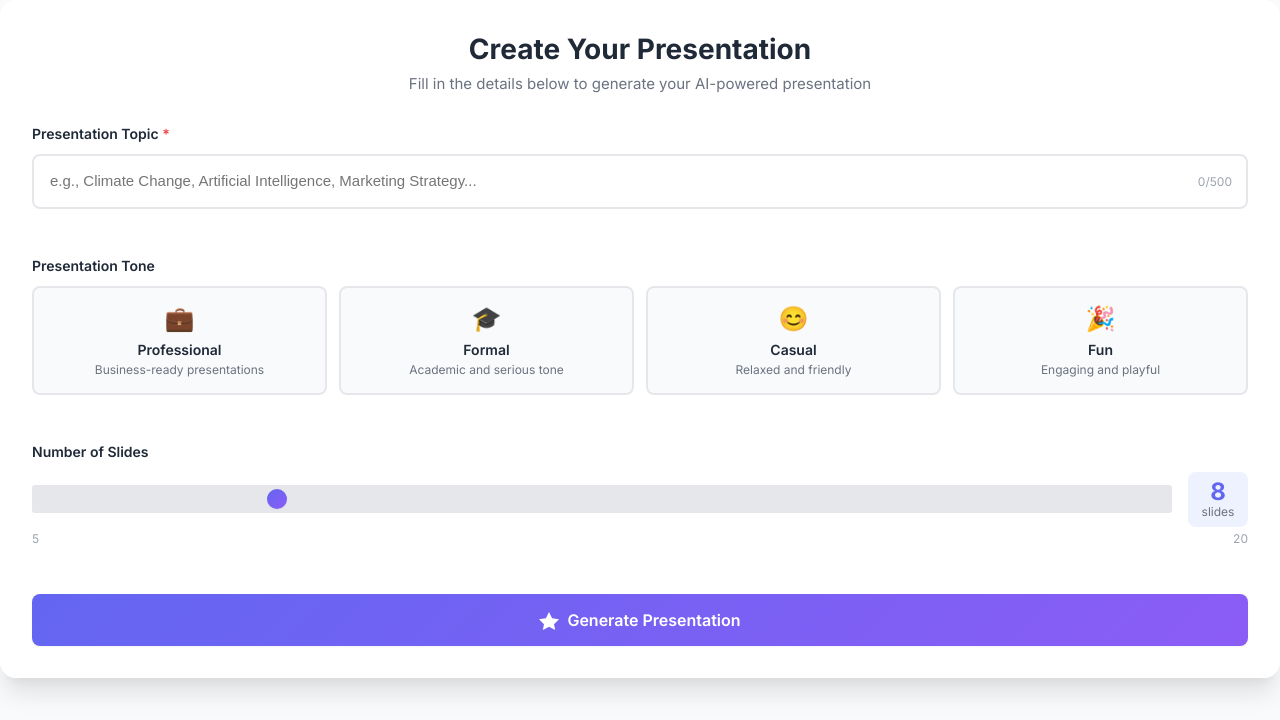
PromptForm Component › validates required topic field
Click the button "Generate Presentation".
click(640, 620)  # box [32,594,1248,646]
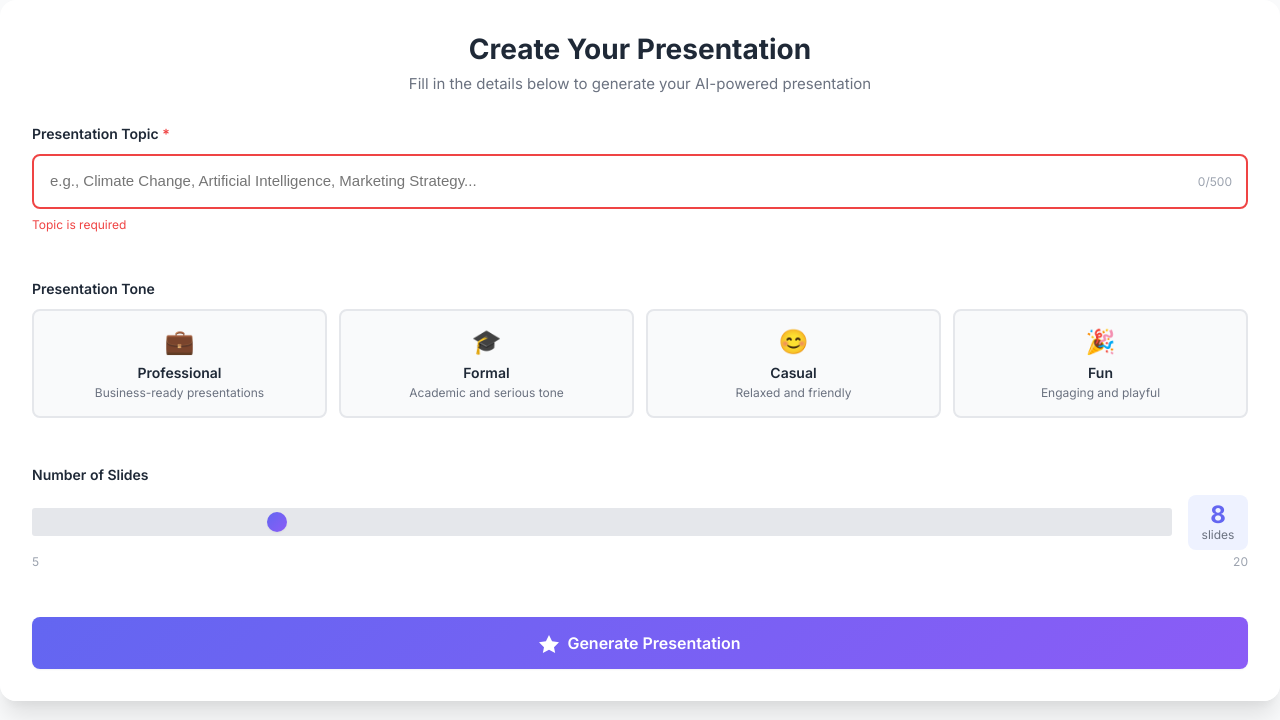
Check: the text "Topic is required" is shown, box [32,216,126,232]
